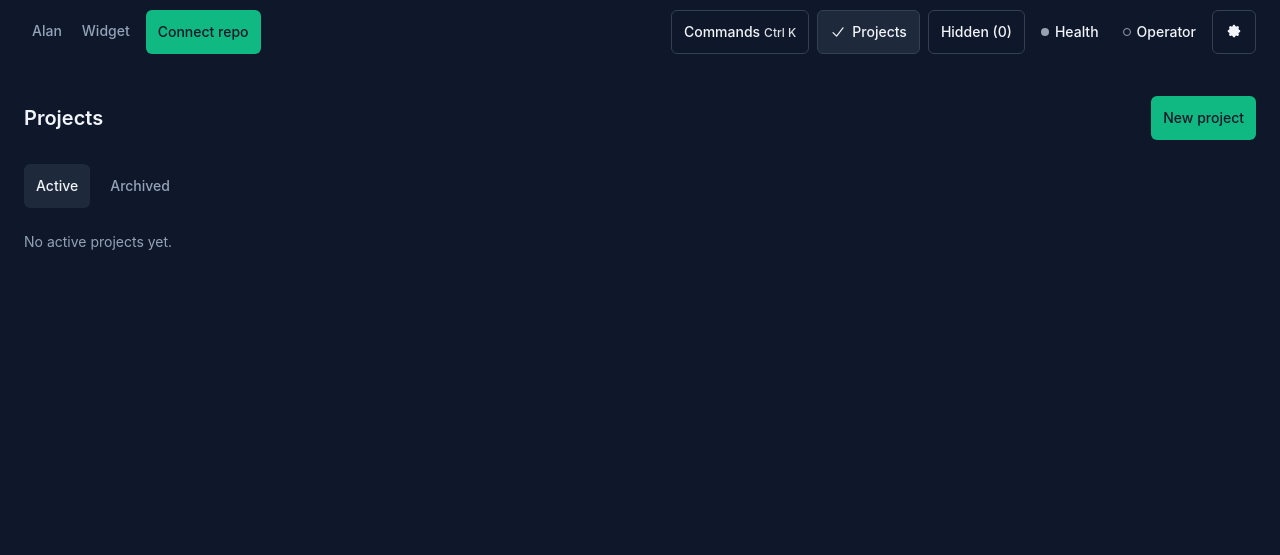
App shell — top bar › toggling project features off on a project page redirects home and keeps focus on the toggle
Expected: the heading "Projects" is shown, [24,104,103,132]
Click the button with test id "project-features-toggle" at (869, 32), box [817,10,920,54]
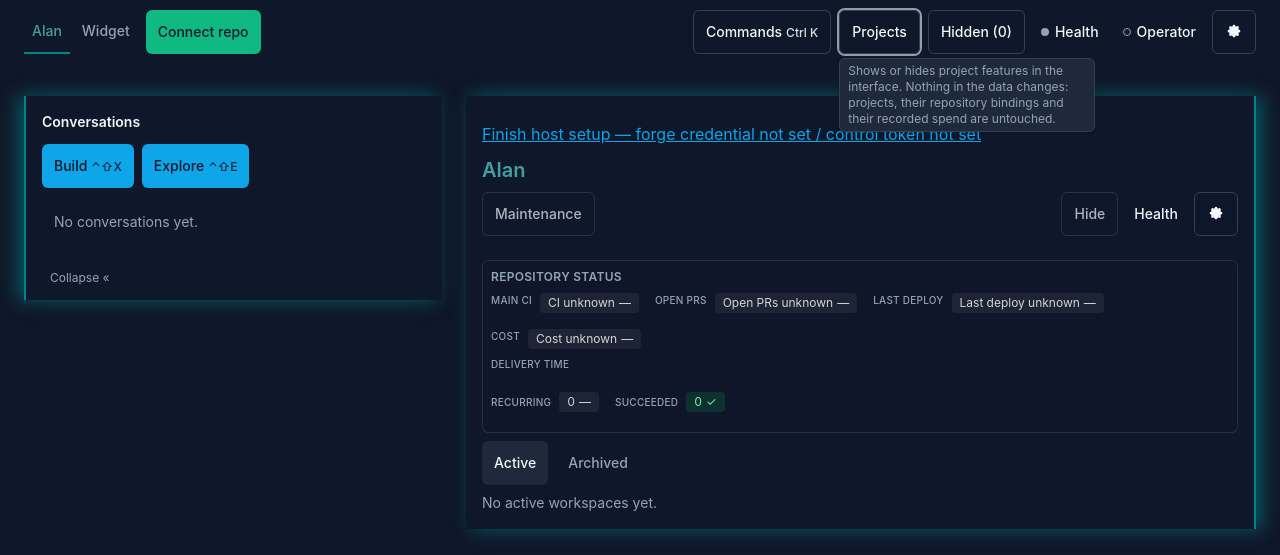
Result: the element with test id "repo-page" is shown
